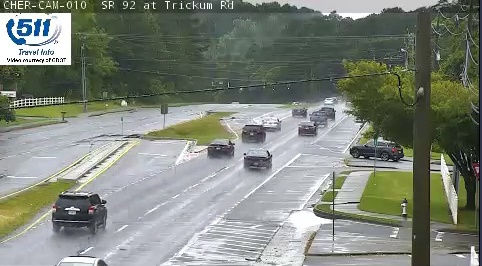car: (52, 191, 107, 227), (244, 149, 272, 167), (207, 139, 234, 156), (242, 124, 265, 142), (261, 116, 280, 130), (309, 111, 326, 126), (298, 122, 317, 135)
